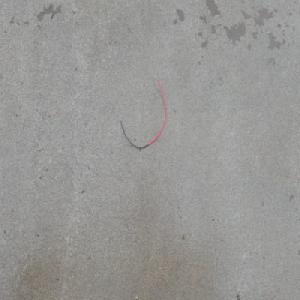Wire: (116, 72, 167, 150)
